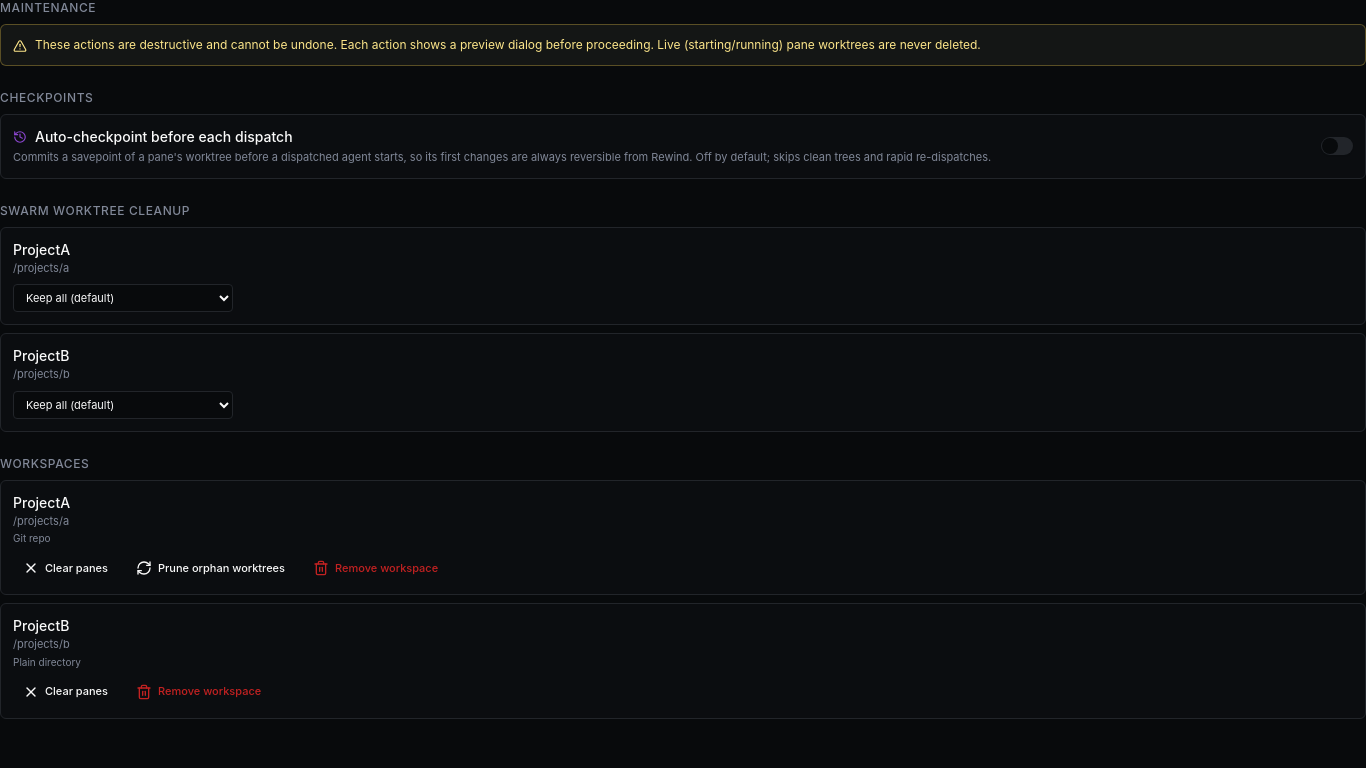
it: MaintenanceTab — remove workspace › warns when live panes block full workspace removal
Click the button with test id "maintenance-remove-ws-ws-1" at (376, 568), box [303,554,448,582]
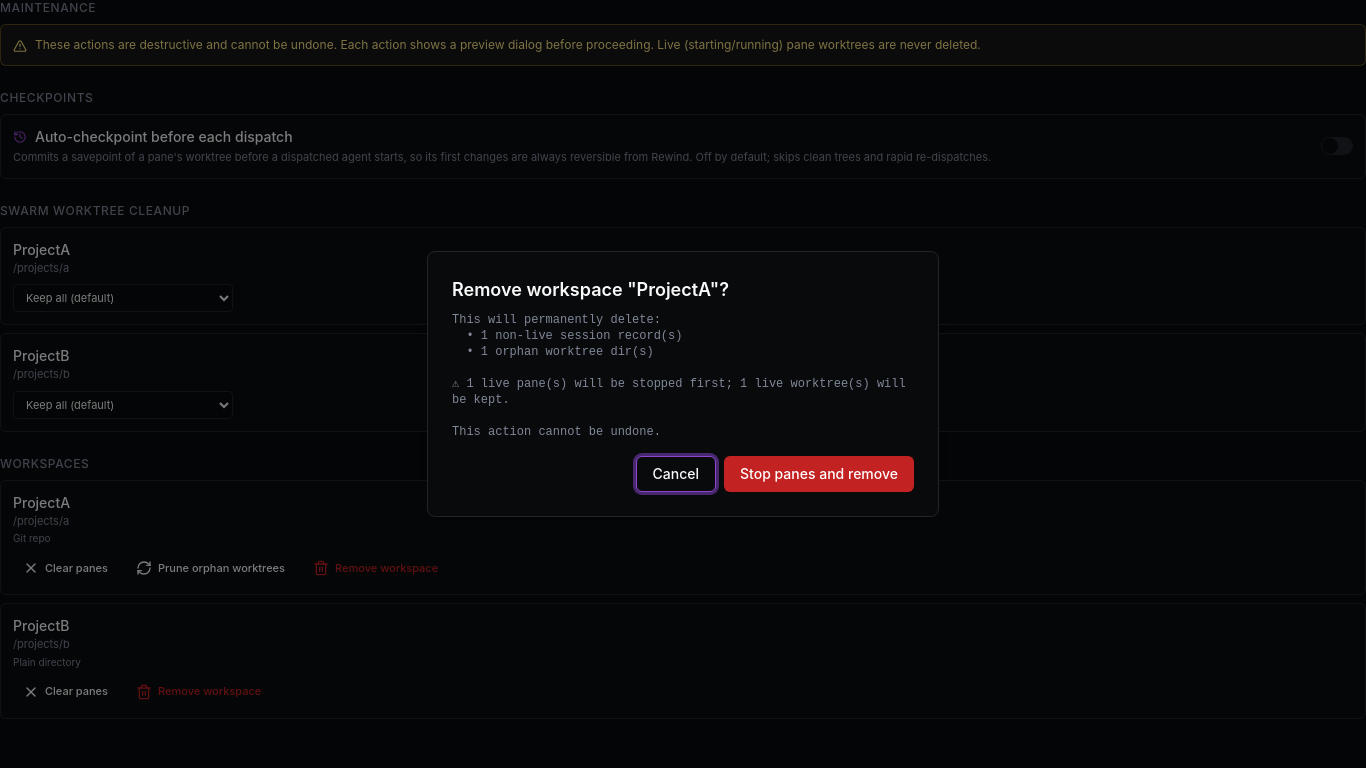
Expected: the dialog shows "1 live pane(s)", [452,313,913,439]
Expected: the dialog shows "will be stopped first", [452,313,913,439]
